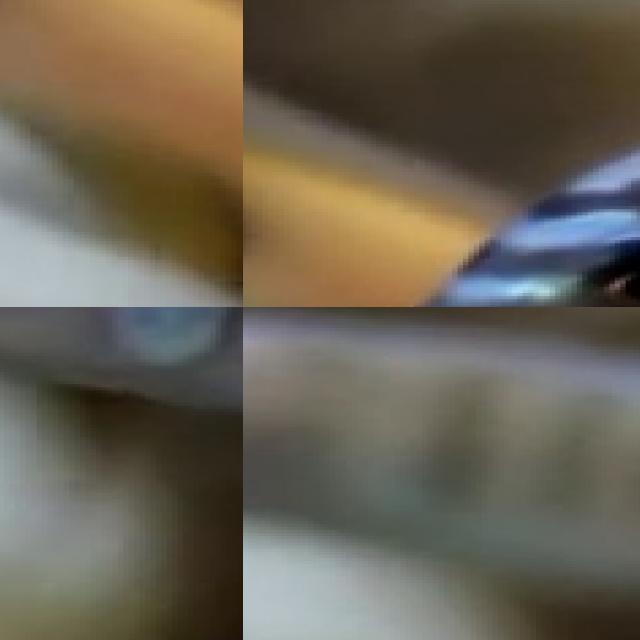fish: (376, 0, 640, 307), (0, 0, 243, 307)
